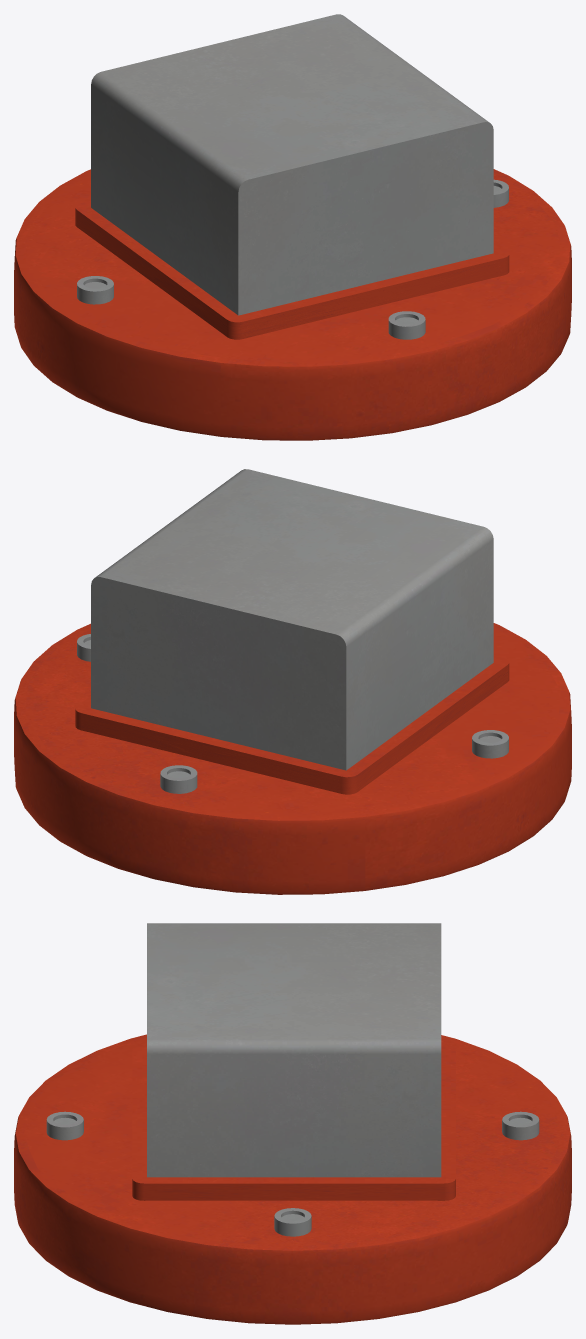
Rendered from armbase.gltf.
3 views of the same model, one above another, from view 1: azimuth 30°, elevation 25°; view 2: azimuth 150°, elevation 25°; view 3: azimuth 270°, elevation 25° (orthographic).
Visible parts, largest first — view 1: Cube.002; view 2: Cube.002; view 3: Cube.002.
Part boxes in pixels (x1=…): Cube.002: x1=14, y1=14, x2=571, y2=440; Cube.002: x1=14, y1=469, x2=571, y2=894; Cube.002: x1=14, y1=923, x2=571, y2=1324.
Size of the model in its own units: 1.2 by 0.5396 by 1.2.
Materials: 3 (3 with a texture image).
